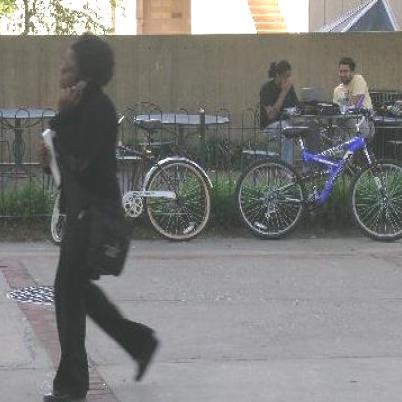ped: (39, 36, 162, 402)
